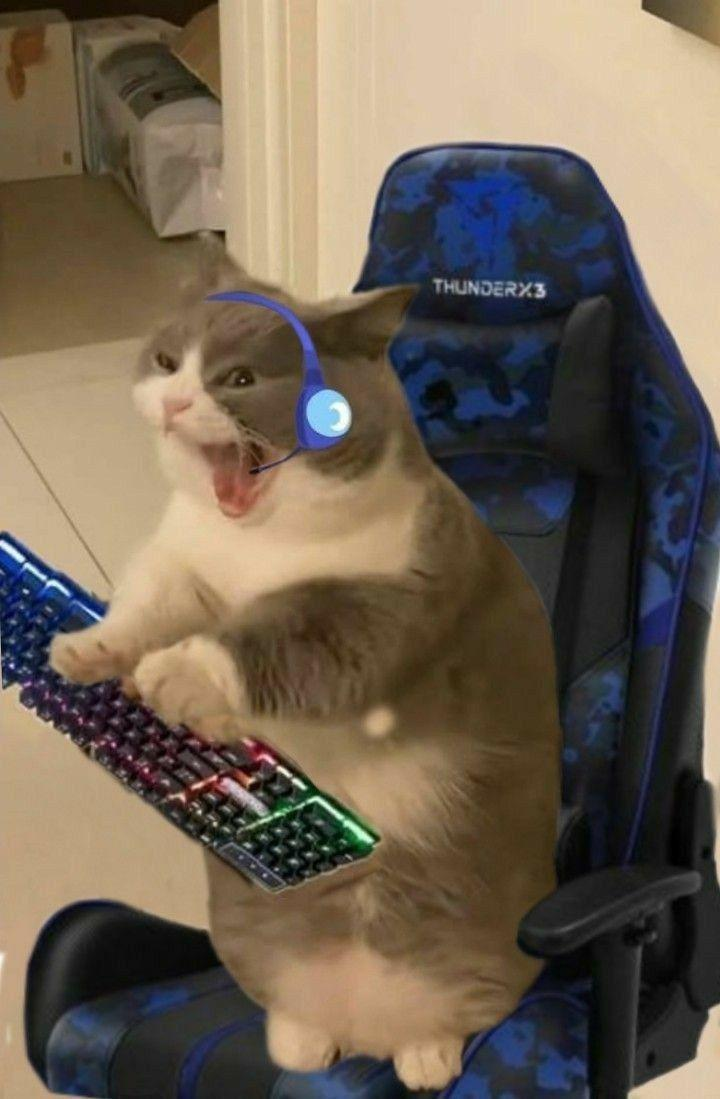kedo: (42, 226, 558, 1096)
